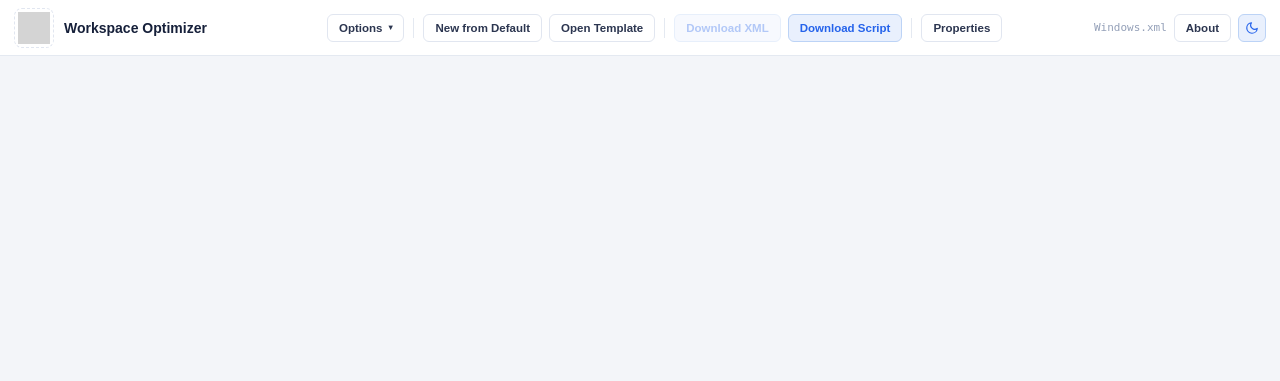
Test: feature flags › hides the Marketplace entry when disabled
The image size is (1280, 381).
Click the button with class "om-trigger" at coordinates (366, 28), box 327,14 -> 404,42
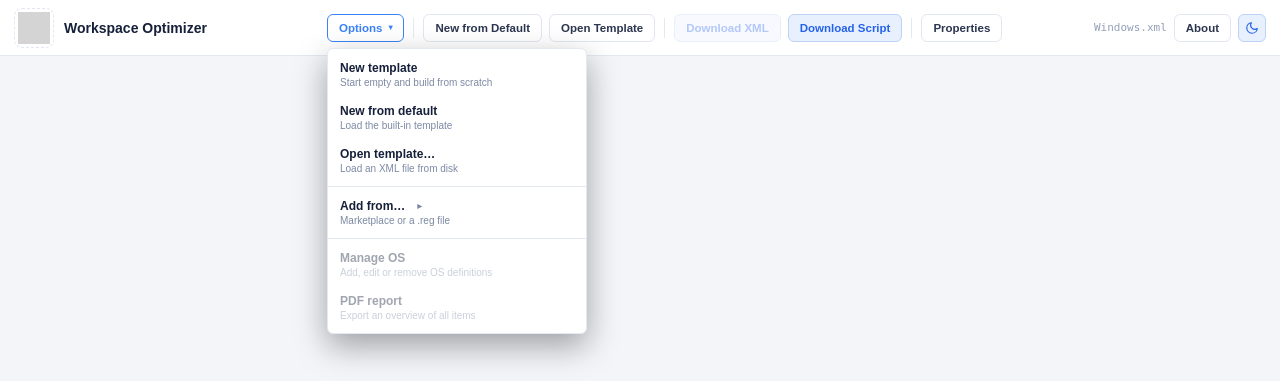
Hover over the element with class "om-sub-wrap" at coordinates (457, 212), box 328,190 -> 586,234
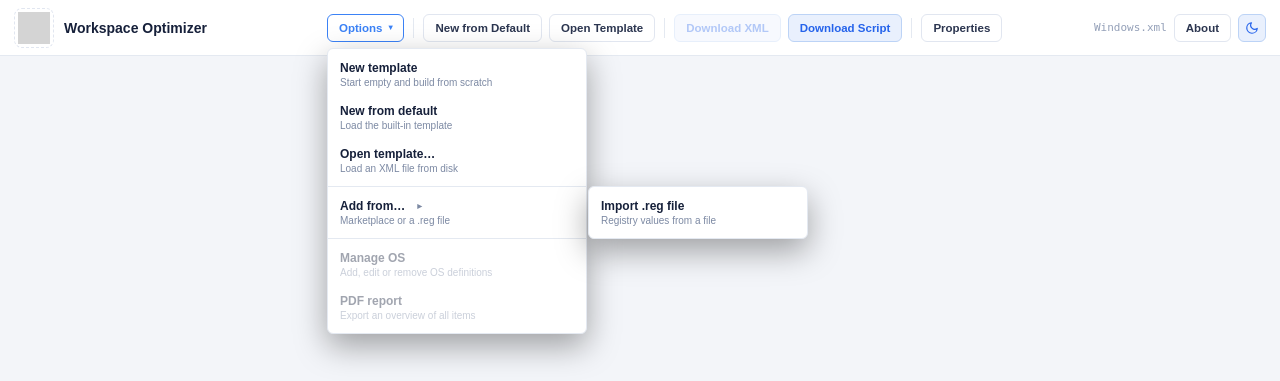
Result: the button with class "om-item" shows "Import .reg file" at 589,190 -> 807,234
